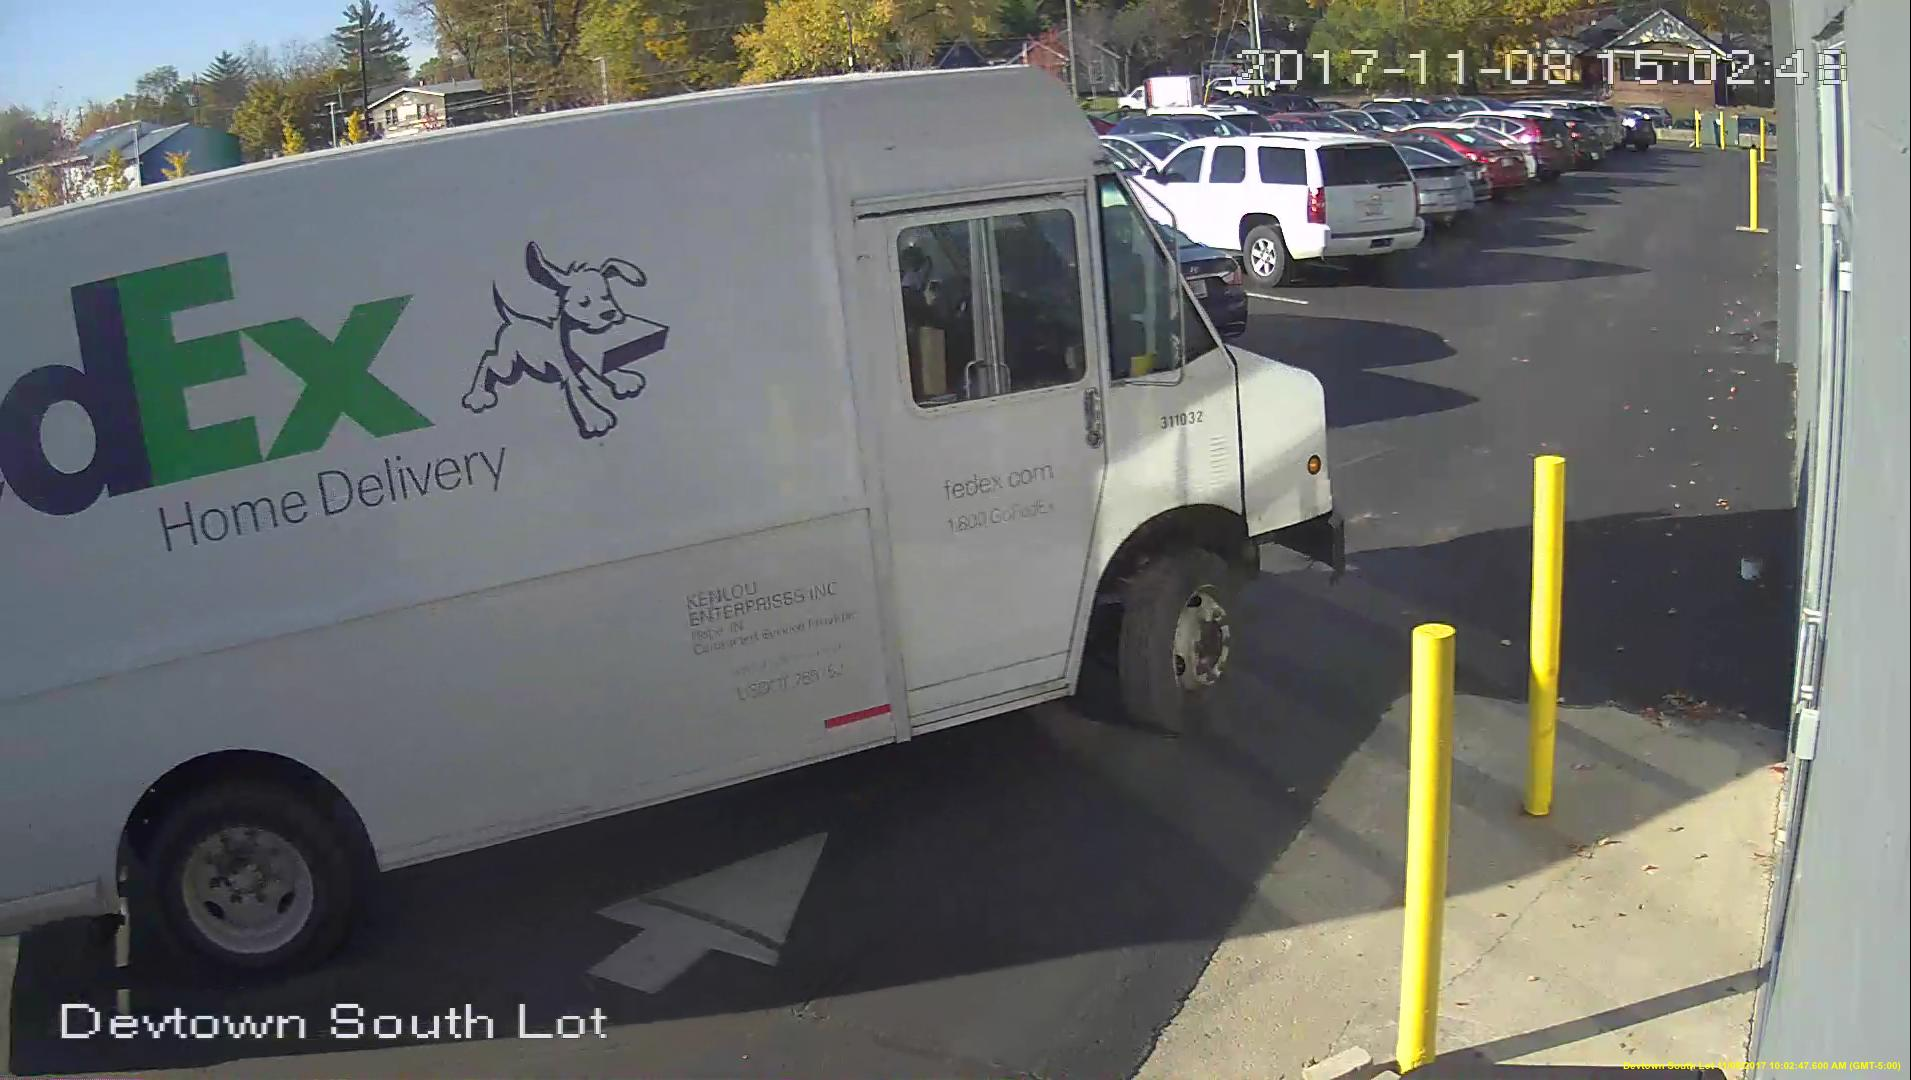fedex_truck: (4, 59, 1357, 966)
